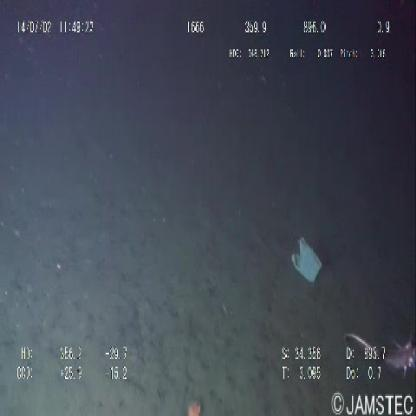Bio: (339, 314, 416, 383)
Rác: (287, 231, 327, 299)
